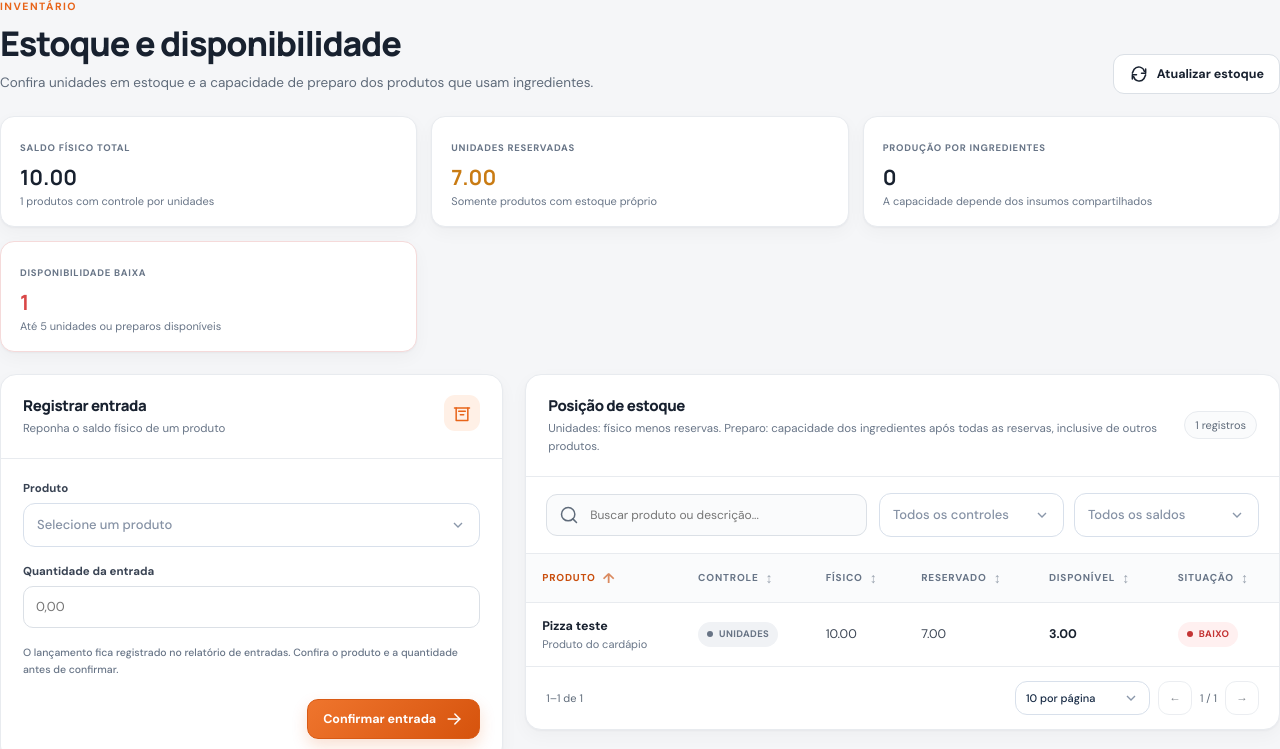
it: entrada bloqueia envio duplicado e limpa quantidade após sucesso
expect the text "Pizza teste" is shown: met, box [542,618,608,634]
Select "Pizza teste · saldo 10.00" in the dropdown labelled "Produto" at (46, 488), box [23,481,68,496]
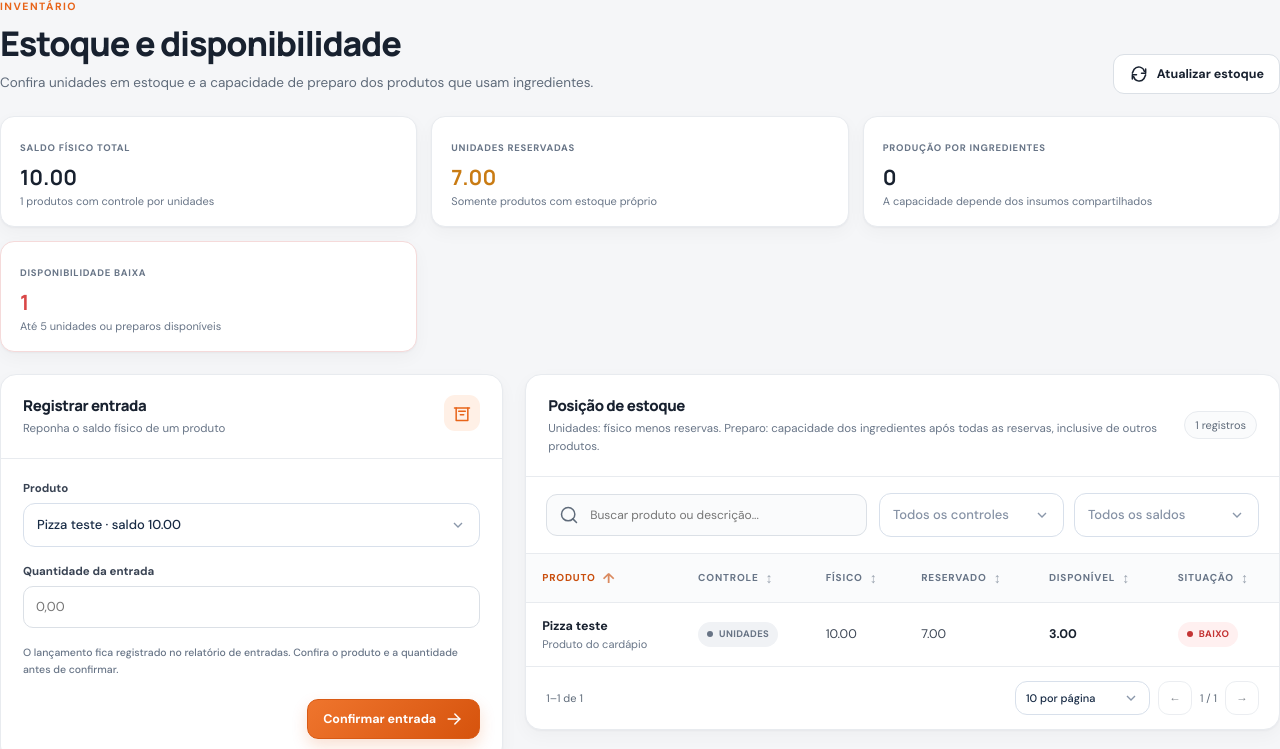
Type "5" into the number field labelled "Quantidade da entrada" at (252, 607), box [23,586,480,628]
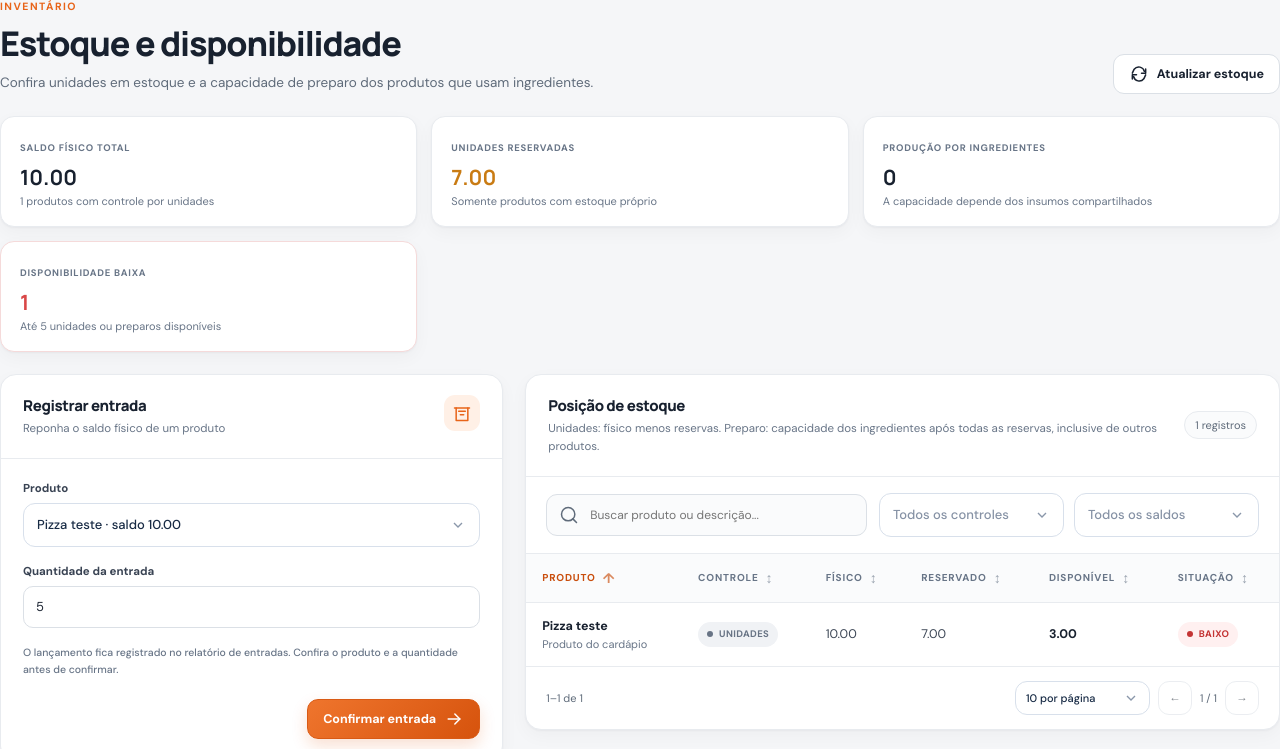
Submit the form named "Registrar entrada de estoque", box [23,481,480,739]
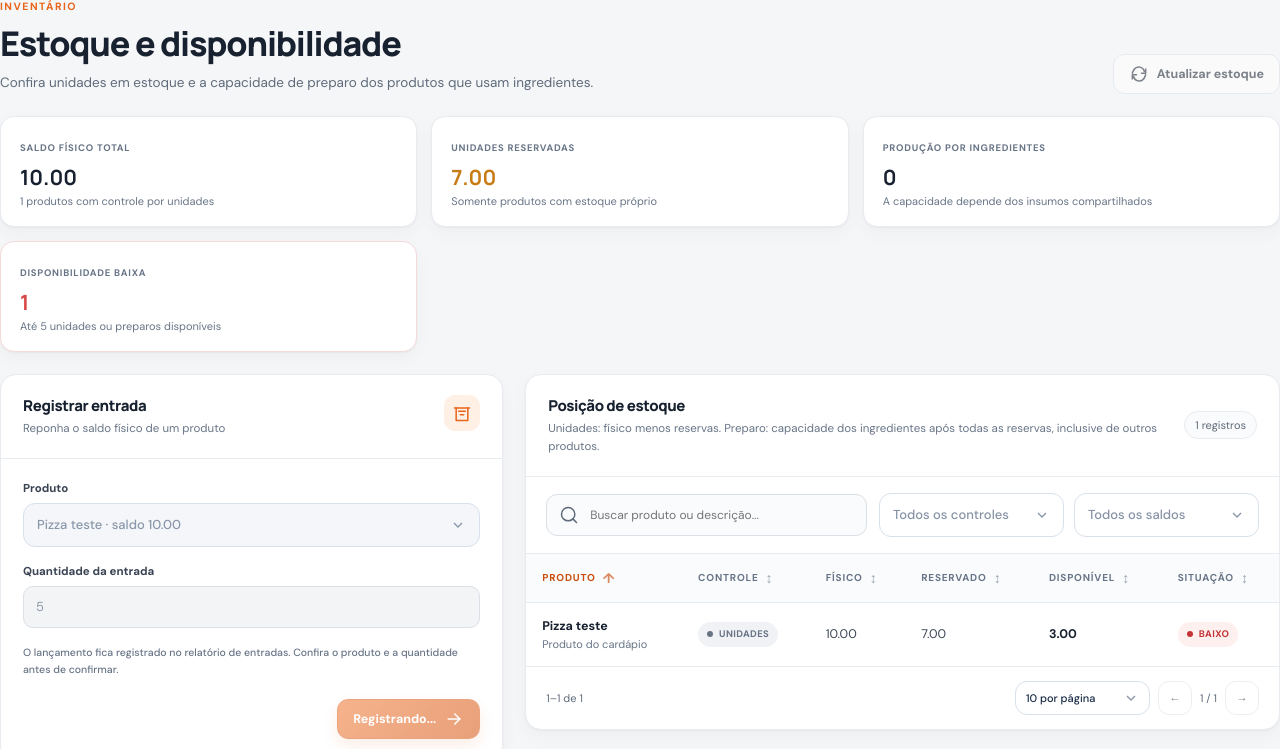
Submit the form named "Registrar entrada de estoque", box [23,481,480,739]
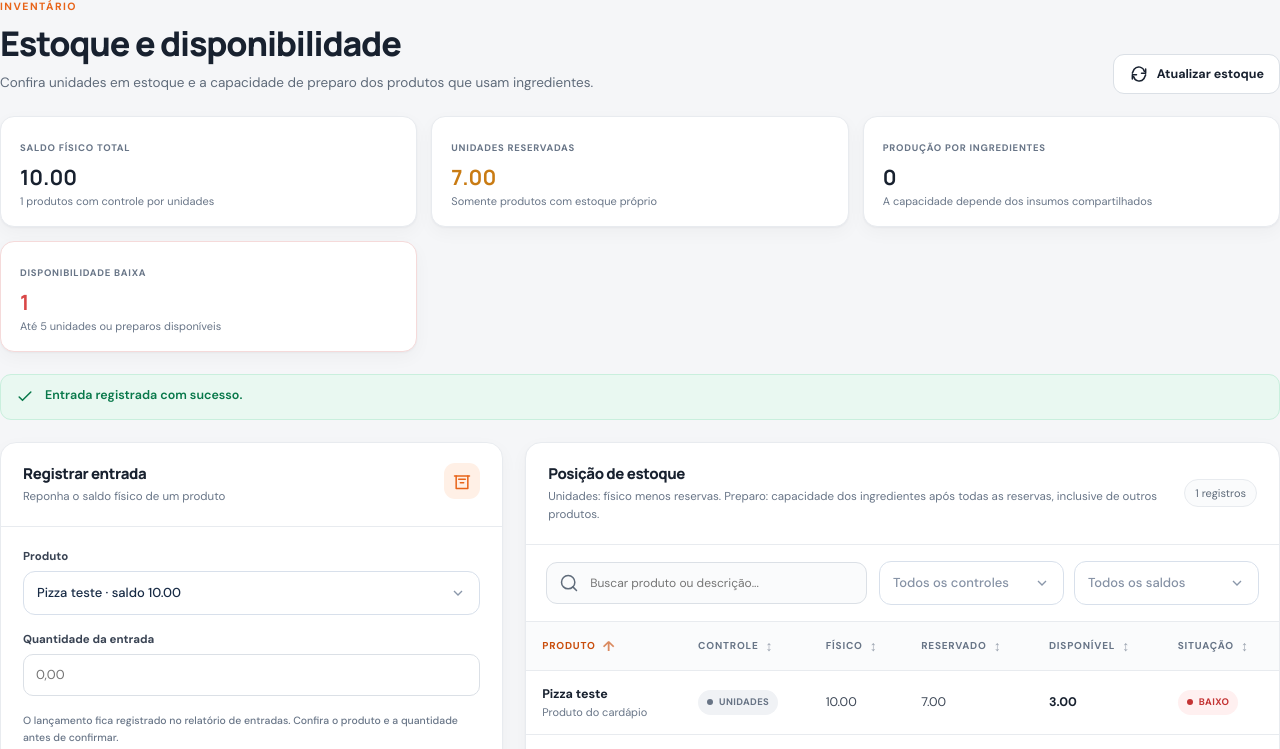
expect the number field labelled "Quantidade da entrada" is not empty: met, box [23,654,480,696]
